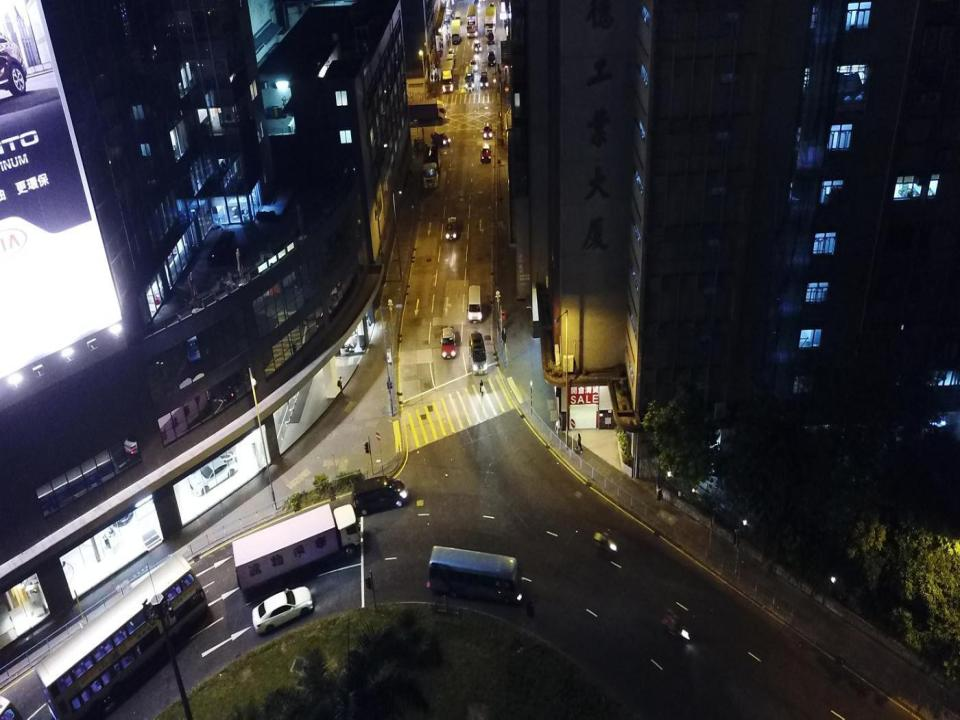bus: (34, 552, 209, 719), (426, 545, 522, 604), (466, 5, 478, 38), (465, 65, 474, 89)
car: (253, 583, 314, 637), (189, 450, 239, 496), (105, 476, 134, 526), (440, 324, 456, 360), (446, 217, 459, 241), (431, 130, 449, 145), (481, 144, 491, 164), (483, 120, 492, 139), (487, 50, 496, 67), (474, 40, 482, 53), (469, 60, 477, 70), (488, 32, 494, 45), (448, 48, 454, 58), (473, 0, 479, 7), (489, 3, 494, 11)
truck: (233, 503, 364, 595), (400, 98, 446, 123), (422, 144, 441, 188), (484, 6, 497, 36), (441, 60, 453, 92), (451, 19, 460, 44), (480, 71, 489, 89)
van: (352, 472, 409, 516), (469, 332, 488, 375), (468, 285, 482, 324), (446, 53, 456, 65), (454, 11, 462, 25)
